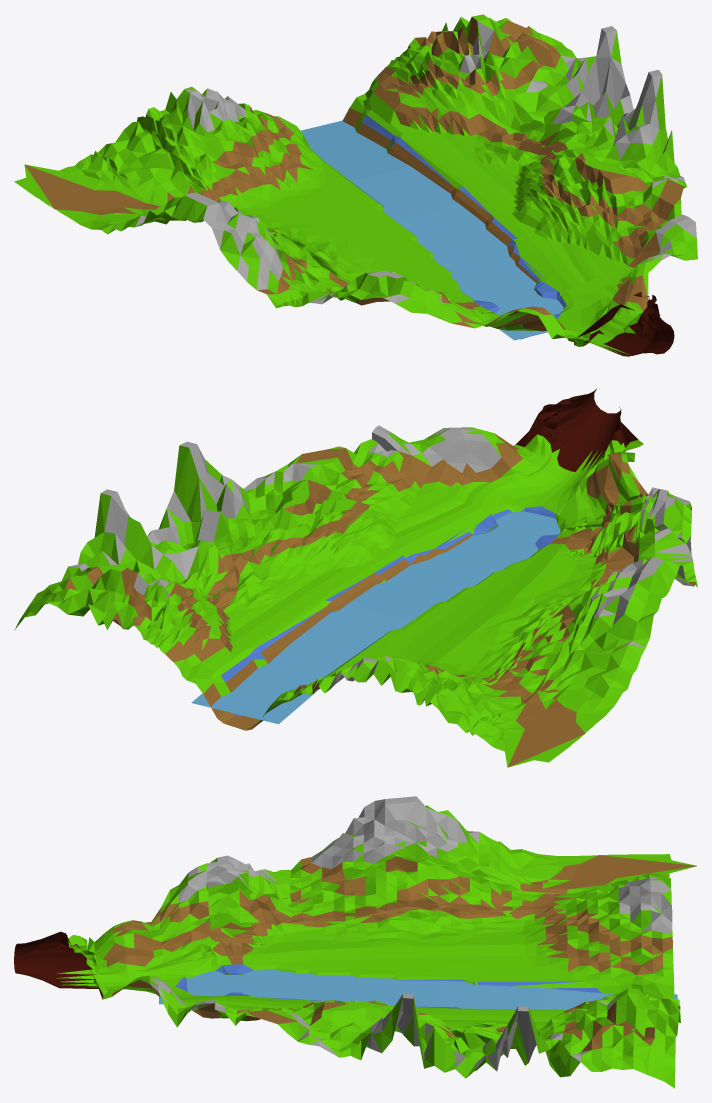
The model's file is Höhle-Tal-Landscape.fbx.
3 views of the same model, one above another, from view 1: azimuth 30°, elevation 25°; view 2: azimuth 150°, elevation 25°; view 3: azimuth 270°, elevation 25° (orthographic). The views are drawn at different scales.
Parts seen in each view (by area): view 1: Cylinder.002, Plane; view 2: Cylinder.002, Plane; view 3: Cylinder.002, Plane.
Boxes of the visible parts, x1=… form: Cylinder.002: x1=14, y1=14, x2=697, y2=356; Plane: x1=301, y1=120, x2=563, y2=340; Cylinder.002: x1=14, y1=388, x2=697, y2=767; Plane: x1=191, y1=511, x2=560, y2=724; Cylinder.002: x1=14, y1=796, x2=696, y2=1088; Plane: x1=159, y1=970, x2=677, y2=1033.
Bounding box in the file's own units: 9614 × 2265 × 11676.
